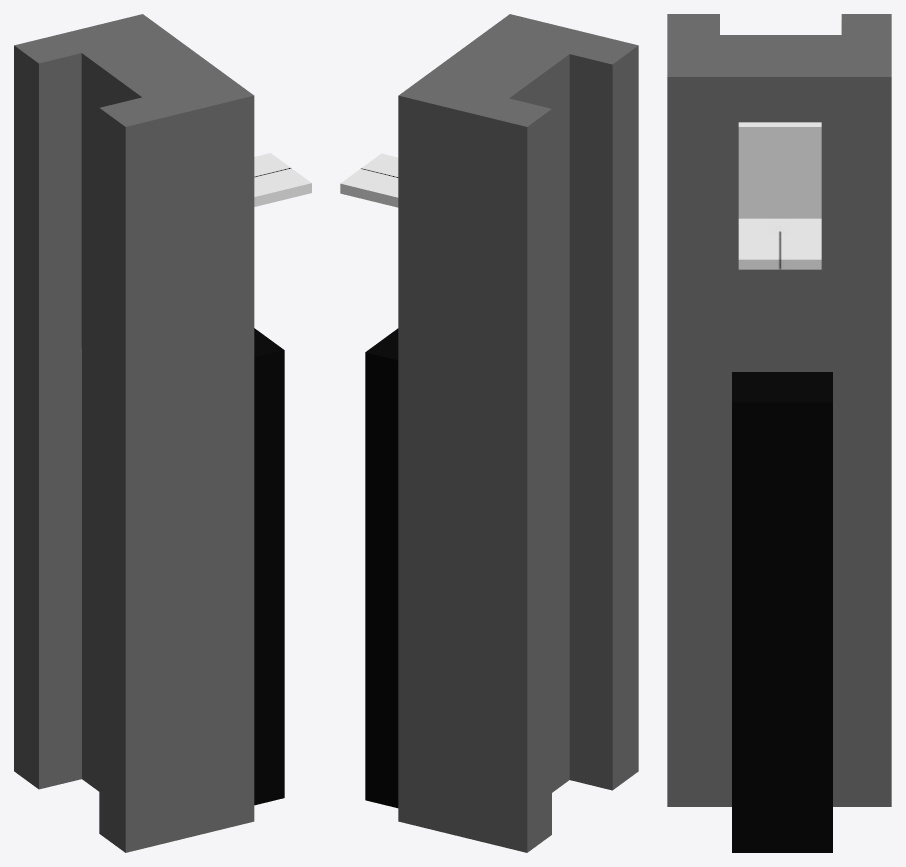
The model's file is 刻度指针.obj.
3 views of the same model, side by side, from view 1: azimuth 30°, elevation 25°; view 2: azimuth 150°, elevation 25°; view 3: azimuth 270°, elevation 25° (orthographic).
Parts seen in each view (by area): view 1: Box003, Box002, object 3; view 2: Box003, Box002, object 3; view 3: Box003, Box002, object 3.
Boxes of the visible parts, x1,y1,x2,y2 form: Box003: [14, 14, 254, 852]; Box002: [254, 328, 284, 805]; object 3: [254, 153, 311, 206]; Box003: [398, 14, 638, 852]; Box002: [365, 328, 398, 808]; object 3: [340, 153, 398, 207]; Box003: [667, 14, 891, 806]; Box002: [732, 372, 832, 852]; object 3: [738, 122, 821, 269].
Bounding box in the file's own units: 46.62 × 149 × 40.6.
